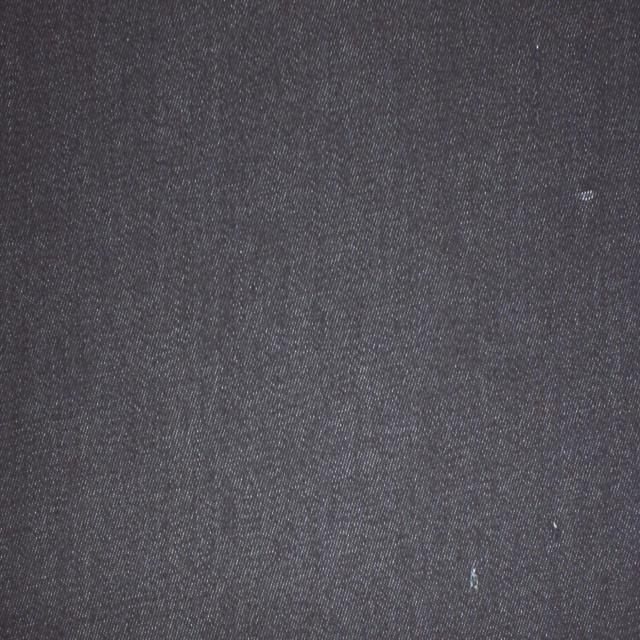Knot: (573, 190, 598, 206), (469, 566, 480, 592)
